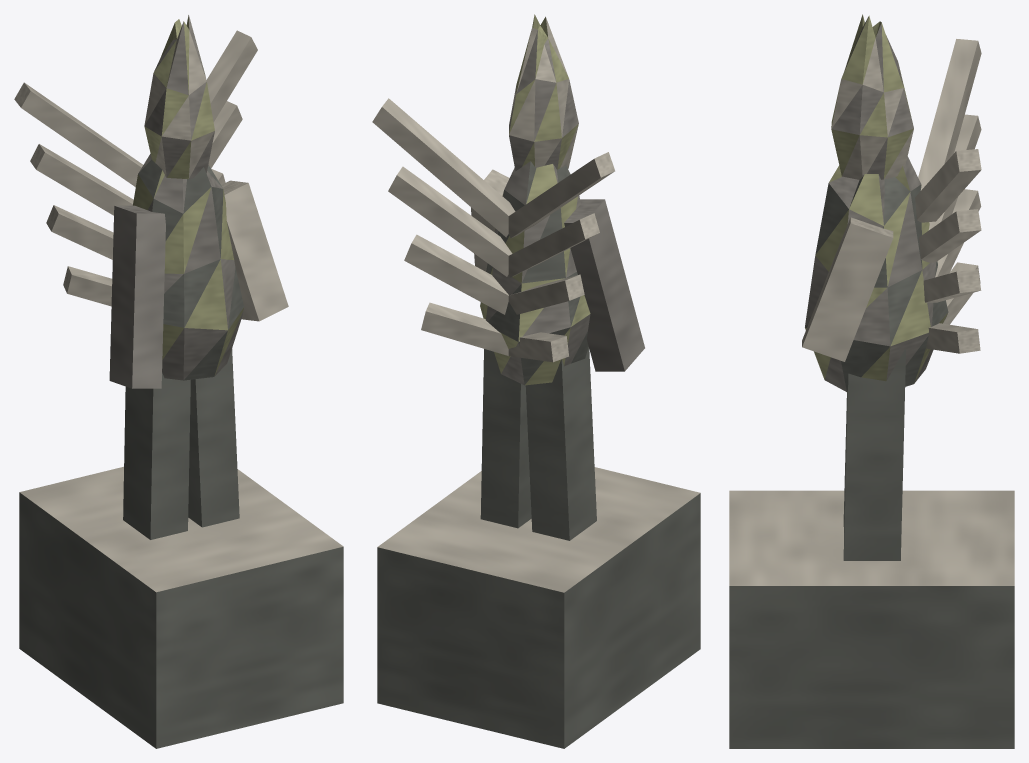
The model's file is statue_angel.fbx.
The picture shows the model from 3 angles, left to right: view 1: azimuth 30°, elevation 25°; view 2: azimuth 150°, elevation 25°; view 3: azimuth 270°, elevation 25°; orthographic projection. The views are drawn at different scales.
Visible parts, largest first — view 1: statue_angel; view 2: statue_angel; view 3: statue_angel.
Boxes of the visible parts, <box> form: statue_angel: <box>14,15,343,748</box>; statue_angel: <box>372,14,700,748</box>; statue_angel: <box>729,14,1014,748</box>.
Bounding box in the file's own units: 150 × 400 × 150.
Materials: 1 (1 with a texture image).
